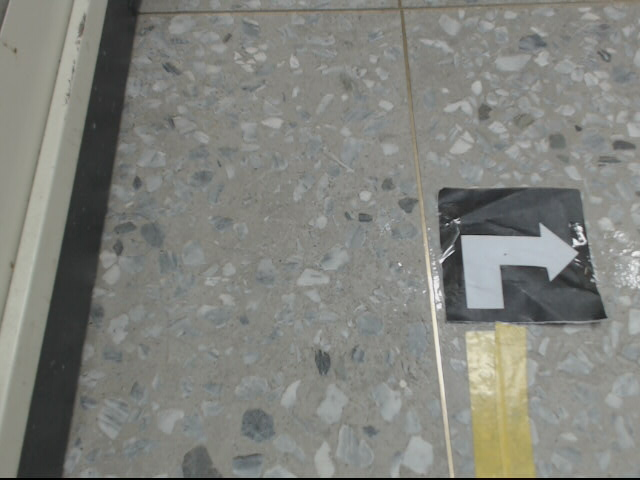right: (437, 184, 610, 323)
